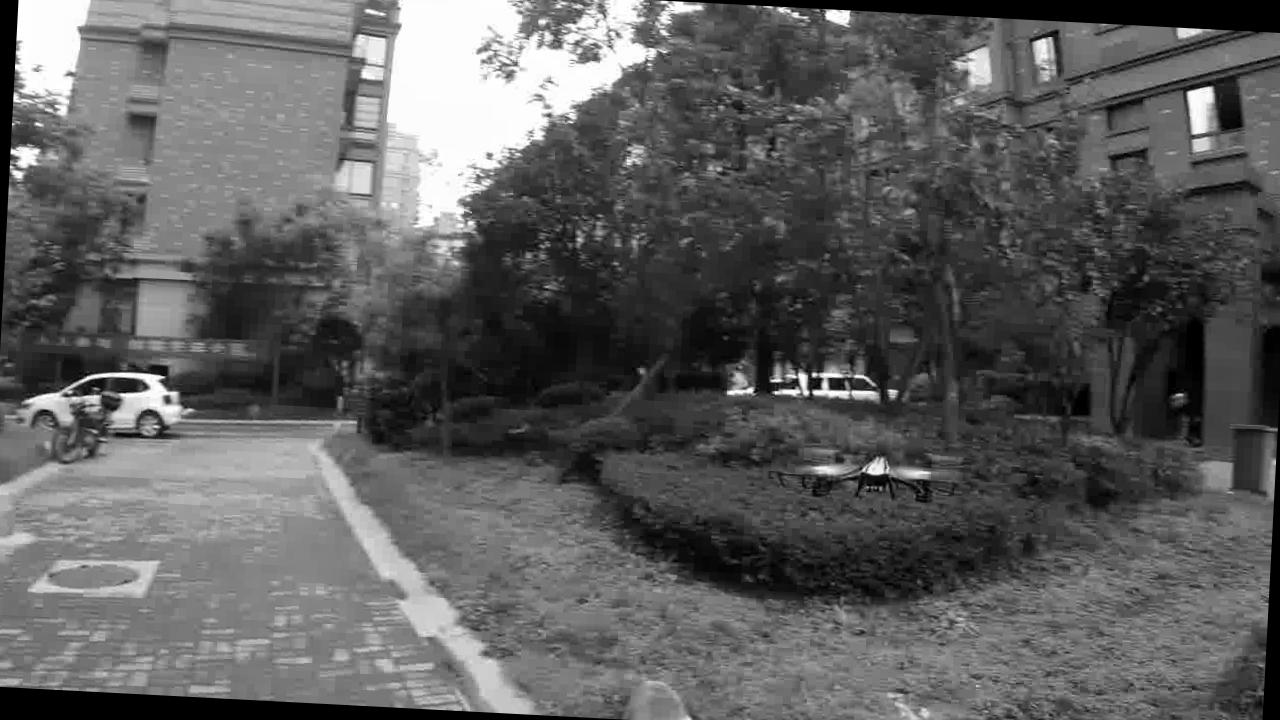drone: (771, 438, 957, 507)
